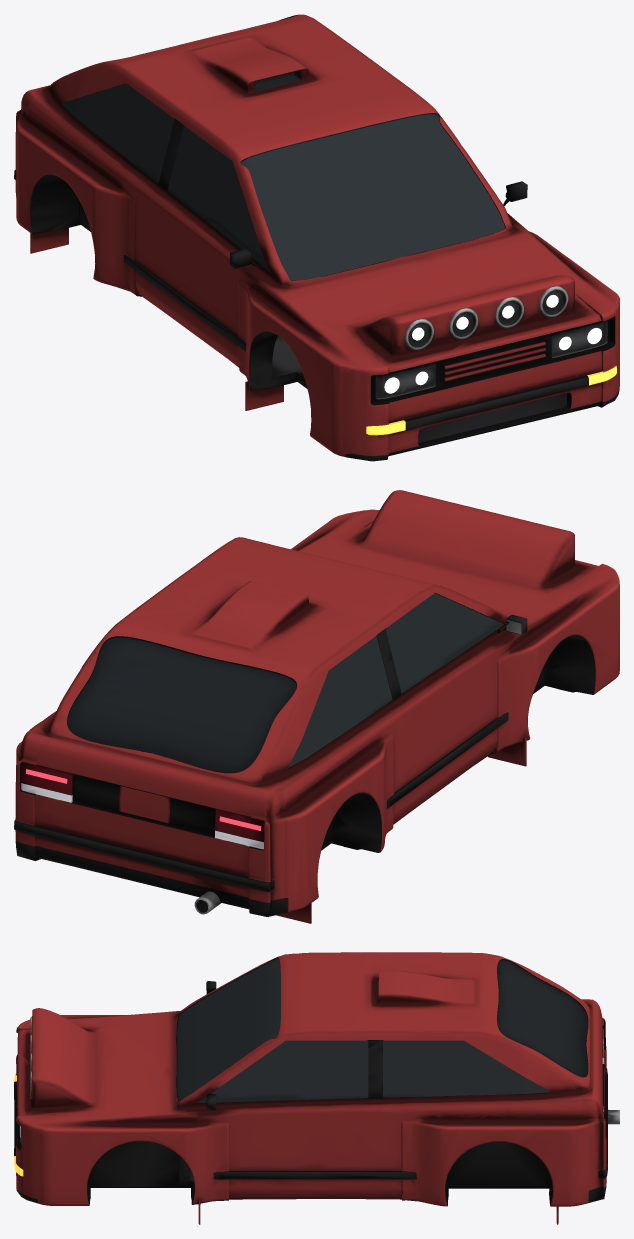
Rendered from sidewinder.m.glb.
3 renders of one model, top to bottom at view 1: azimuth 30°, elevation 25°; view 2: azimuth 150°, elevation 25°; view 3: azimuth 270°, elevation 25°, orthographic. The views are drawn at different scales.
Parts seen in each view (by area): view 1: paint_lodm, window_lodm, trim_lodm, head_lodm, grille_lodm, chrome_lodm, interior_lodm, amber_lodm, lens_lodm; view 2: paint_lodm, glass_lodm, trim_lodm, window_lodm, tail_lodm, reverse_lodm; view 3: paint_lodm, window_lodm, trim_lodm, glass_lodm, chrome_lodm.
Part boxes in pixels (left/top/right/bottom): paint_lodm: left=15, top=14, right=619, bottom=457; window_lodm: left=62, top=83, right=505, bottom=280; trim_lodm: left=14, top=83, right=619, bottom=461; head_lodm: left=375, top=290, right=606, bottom=398; grille_lodm: left=255, top=70, right=567, bottom=442; chrome_lodm: left=376, top=286, right=607, bottom=399; interior_lodm: left=65, top=83, right=503, bottom=377; amber_lodm: left=366, top=366, right=616, bottom=435; lens_lodm: left=384, top=328, right=601, bottom=393; paint_lodm: left=15, top=490, right=619, bottom=923; glass_lodm: left=67, top=636, right=297, bottom=773; trim_lodm: left=14, top=593, right=595, bottom=917; window_lodm: left=288, top=593, right=504, bottom=767; tail_lodm: left=21, top=762, right=264, bottom=842; reverse_lodm: left=21, top=783, right=263, bottom=849; paint_lodm: left=16, top=952, right=606, bottom=1224; window_lodm: left=177, top=958, right=550, bottom=1103; trim_lodm: left=14, top=957, right=607, bottom=1205; glass_lodm: left=497, top=959, right=588, bottom=1077; chrome_lodm: left=19, top=987, right=619, bottom=1143.
Size of what is drawn, in the model's own units: 1.93 by 1.4 by 4.13.
